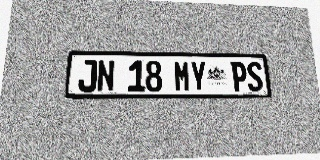1: (128, 60, 145, 92)
8: (146, 60, 162, 92)
J: (78, 59, 97, 92)
M: (174, 61, 191, 92)
N: (96, 60, 115, 92)
P: (231, 62, 248, 91)
S: (246, 62, 263, 91)
Y: (190, 61, 207, 92)
